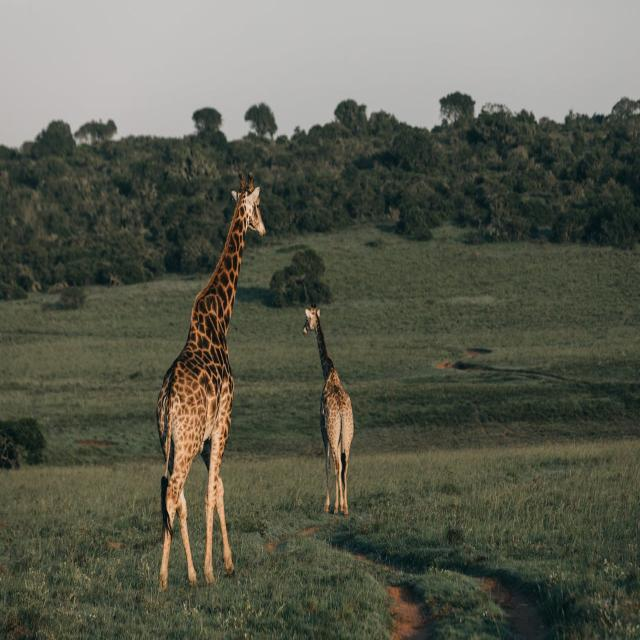Giraffe: (157, 171, 268, 592), (302, 303, 355, 516)
